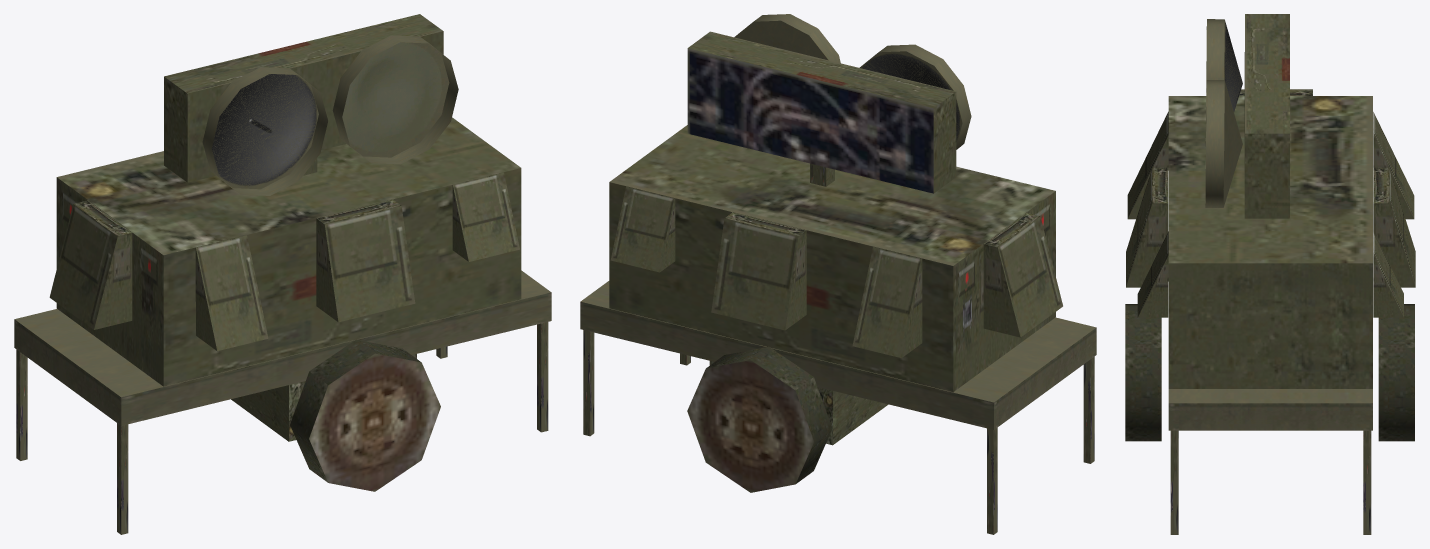
Rendered from IHAWK_HPIR.fbx.
3 renders of one model, left to right at view 1: azimuth 30°, elevation 25°; view 2: azimuth 150°, elevation 25°; view 3: azimuth 270°, elevation 25°, orthographic. The views are drawn at different scales.
Visible parts, largest first — view 1: HAWK_RLS_main, HAWK_RLS_ANT; view 2: HAWK_RLS_main, HAWK_RLS_ANT; view 3: HAWK_RLS_main, HAWK_RLS_ANT.
Part boxes in pixels (x1,y1,x2,y2): HAWK_RLS_main: [14, 117, 551, 534]; HAWK_RLS_ANT: [164, 14, 458, 195]; HAWK_RLS_main: [580, 125, 1096, 534]; HAWK_RLS_ANT: [687, 14, 971, 193]; HAWK_RLS_main: [1125, 89, 1415, 534]; HAWK_RLS_ANT: [1205, 14, 1289, 218].
Bounding box in the file's own units: 326 × 294 × 199.
